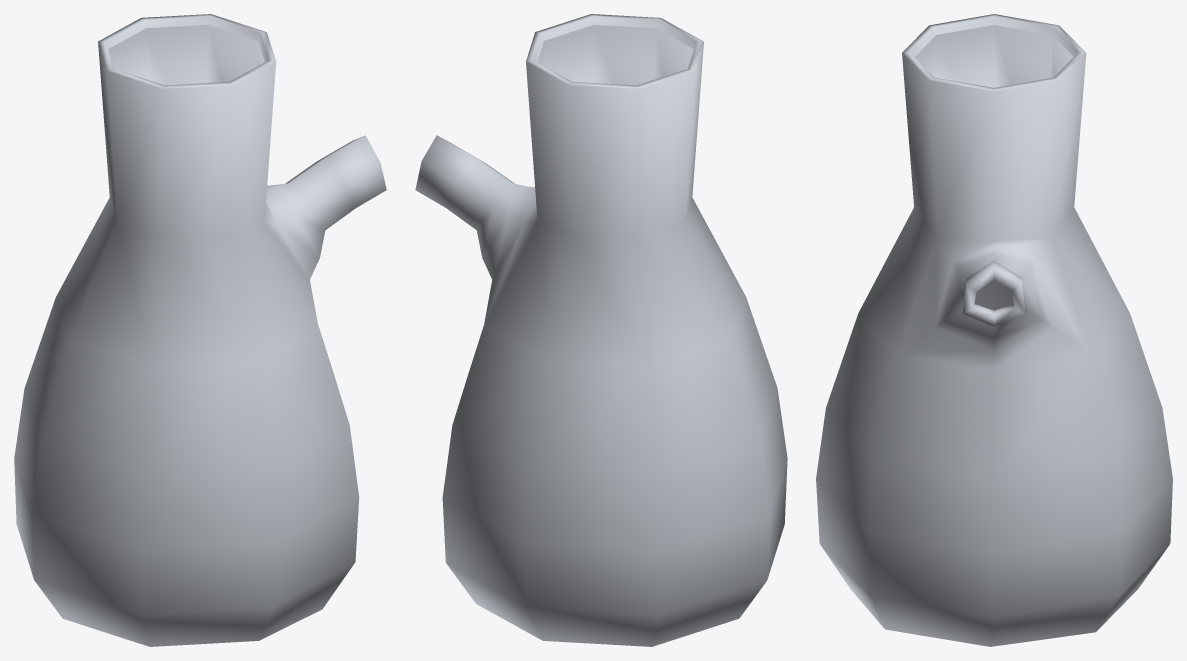
The model's file is bottle_glassware_buchner_flask_medium.glb.
3 renders of one model, left to right at view 1: azimuth 30°, elevation 25°; view 2: azimuth 150°, elevation 25°; view 3: azimuth 270°, elevation 25°, orthographic.
Visible parts, largest first — view 1: bottle_glassware_buchner_flask_medium; view 2: bottle_glassware_buchner_flask_medium; view 3: bottle_glassware_buchner_flask_medium.
Part boxes in pixels (<box>): bottle_glassware_buchner_flask_medium: <box>14,14,386,646</box>; bottle_glassware_buchner_flask_medium: <box>415,14,787,646</box>; bottle_glassware_buchner_flask_medium: <box>816,14,1172,646</box>.
Bounding box in the file's own units: 12.5 × 19.2 × 11.36.
1 material, 1 textured.
